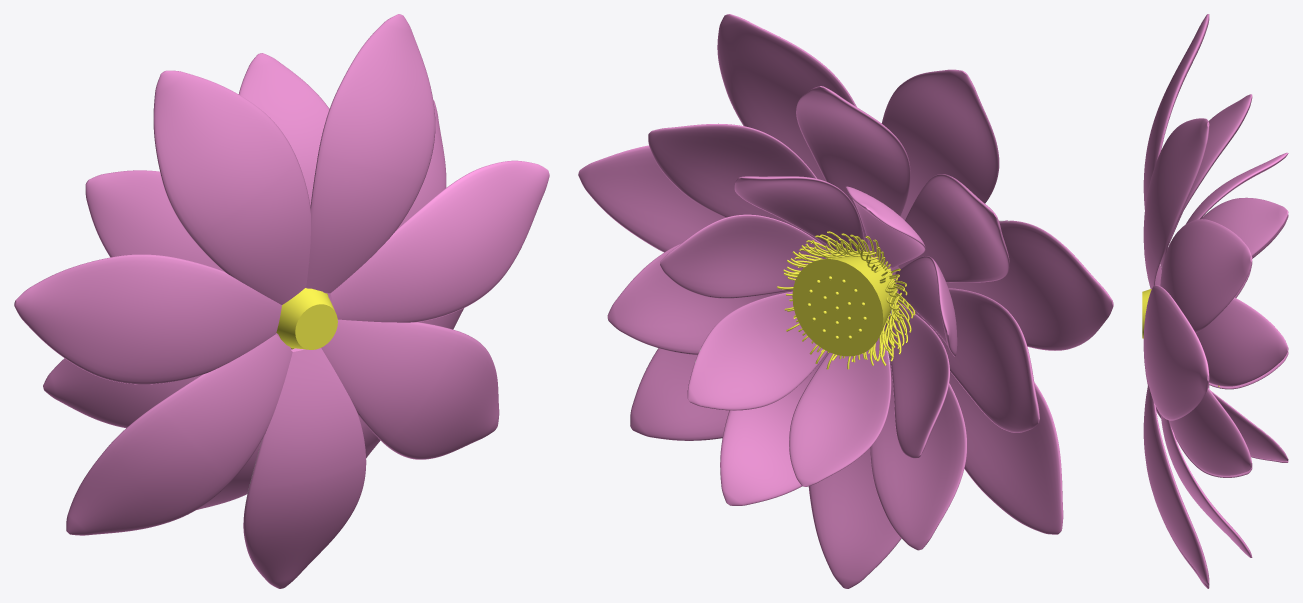
Rendered from Teratai(Berbunga).glb.
3 views of the same model, side by side, from view 1: azimuth 30°, elevation 25°; view 2: azimuth 150°, elevation 25°; view 3: azimuth 270°, elevation 25° (orthographic). The views are drawn at different scales.
Visible parts, largest first — view 1: imagetostl_mesh226, imagetostl_mesh227, imagetostl_mesh225, imagetostl_mesh228, imagetostl_mesh224, imagetostl_mesh221, imagetostl_mesh223, imagetostl_mesh218, imagetostl_mesh217, imagetostl_mesh219, imagetostl_mesh201, imagetostl_mesh216 (+1 smaller); view 2: imagetostl_mesh205, imagetostl_mesh226, imagetostl_mesh227, imagetostl_mesh203, imagetostl_mesh225, imagetostl_mesh228, imagetostl_mesh216, imagetostl_mesh206, imagetostl_mesh212, imagetostl_mesh219, imagetostl_mesh217, imagetostl_mesh224 (+10 smaller); view 3: imagetostl_mesh216, imagetostl_mesh224, imagetostl_mesh225, imagetostl_mesh206, imagetostl_mesh215, imagetostl_mesh223, imagetostl_mesh207, imagetostl_mesh226, imagetostl_mesh217, imagetostl_mesh214, imagetostl_mesh205, imagetostl_mesh208 (+4 smaller).
Boxes of the visible parts, left/top/right/bottom form: imagetostl_mesh226: left=153, top=70, right=310, bottom=304; imagetostl_mesh227: left=14, top=254, right=281, bottom=384; imagetostl_mesh225: left=305, top=14, right=435, bottom=293; imagetostl_mesh228: left=66, top=333, right=292, bottom=535; imagetostl_mesh224: left=328, top=160, right=549, bottom=322; imagetostl_mesh221: left=243, top=348, right=366, bottom=588; imagetostl_mesh223: left=321, top=319, right=499, bottom=459; imagetostl_mesh218: left=85, top=170, right=223, bottom=271; imagetostl_mesh217: left=238, top=53, right=329, bottom=206; imagetostl_mesh219: left=43, top=358, right=201, bottom=427; imagetostl_mesh201: left=276, top=288, right=337, bottom=349; imagetostl_mesh216: left=397, top=100, right=446, bottom=228; imagetostl_mesh205: left=687, top=291, right=827, bottom=410; imagetostl_mesh226: left=866, top=69, right=999, bottom=272; imagetostl_mesh227: left=892, top=220, right=1113, bottom=350; imagetostl_mesh203: left=789, top=337, right=891, bottom=486; imagetostl_mesh225: left=717, top=14, right=870, bottom=255; imagetostl_mesh228: left=890, top=298, right=1063, bottom=534; imagetostl_mesh216: left=648, top=123, right=833, bottom=250; imagetostl_mesh206: left=660, top=214, right=830, bottom=298; imagetostl_mesh212: left=870, top=326, right=966, bottom=550; imagetostl_mesh219: left=906, top=288, right=1039, bottom=432; imagetostl_mesh217: left=796, top=86, right=910, bottom=244; imagetostl_mesh224: left=578, top=145, right=725, bottom=252; imagetostl_mesh216: left=1160, top=219, right=1252, bottom=332; imagetostl_mesh224: left=1143, top=285, right=1209, bottom=420; imagetostl_mesh225: left=1143, top=118, right=1209, bottom=288; imagetostl_mesh206: left=1196, top=297, right=1288, bottom=386; imagetostl_mesh215: left=1169, top=388, right=1252, bottom=475; imagetostl_mesh223: left=1143, top=384, right=1209, bottom=585; imagetostl_mesh207: left=1200, top=197, right=1288, bottom=255; imagetostl_mesh226: left=1143, top=14, right=1209, bottom=272; imagetostl_mesh217: left=1160, top=94, right=1252, bottom=271; imagetostl_mesh214: left=1161, top=415, right=1252, bottom=557; imagetostl_mesh205: left=1210, top=390, right=1288, bottom=461; imagetostl_mesh208: left=1186, top=152, right=1288, bottom=223.
Size of the model in its own units: 9.54 by 9.3 by 2.37.
